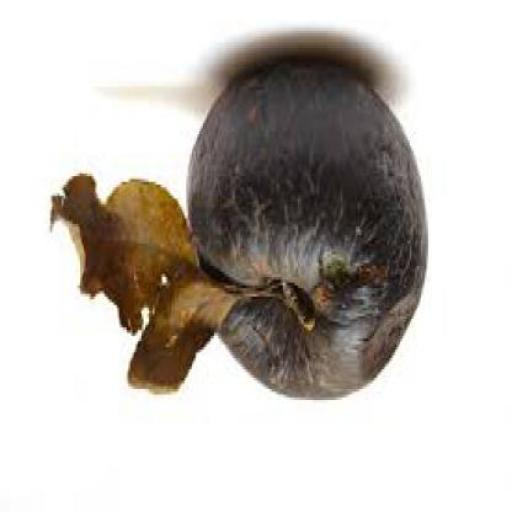biodegradable: (184, 61, 426, 403), (49, 176, 270, 398)
